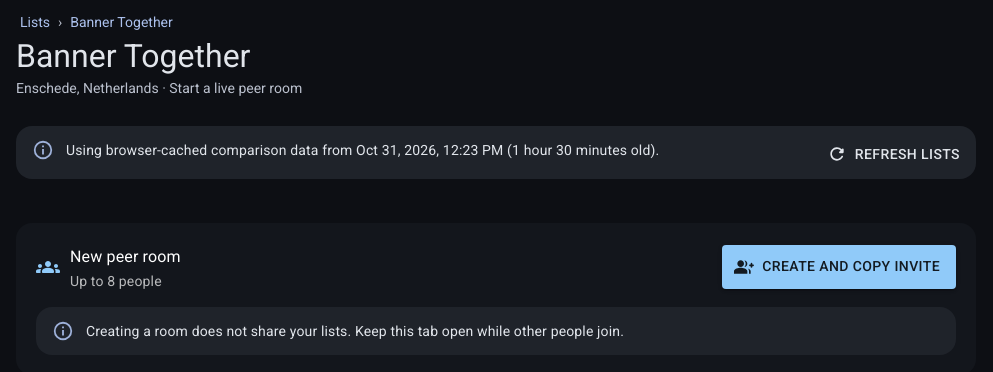
Test: uses four-hour browser caches until the user refreshes all lists
Expected: the text "Using browser-cached comparison data" shows "1 hour 30 minutes old", [66,142,659,158]
Click the button "Refresh lists": click(895, 154) [823,136,968,172]
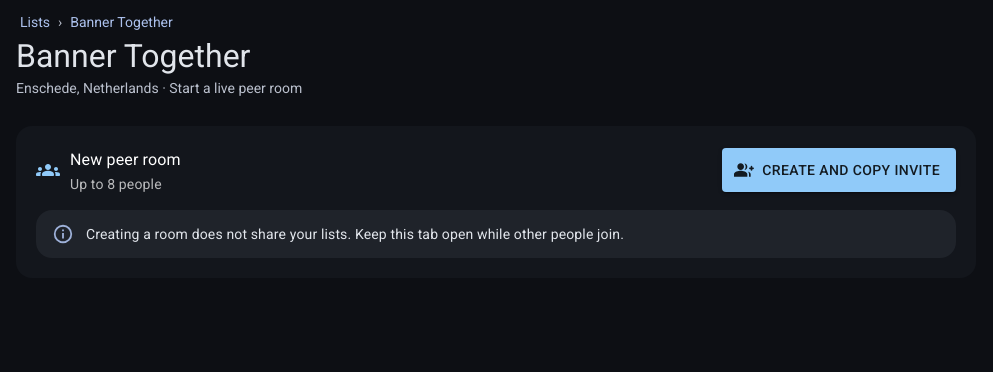
Expected: the text "Using browser-cached comparison data" is gone
